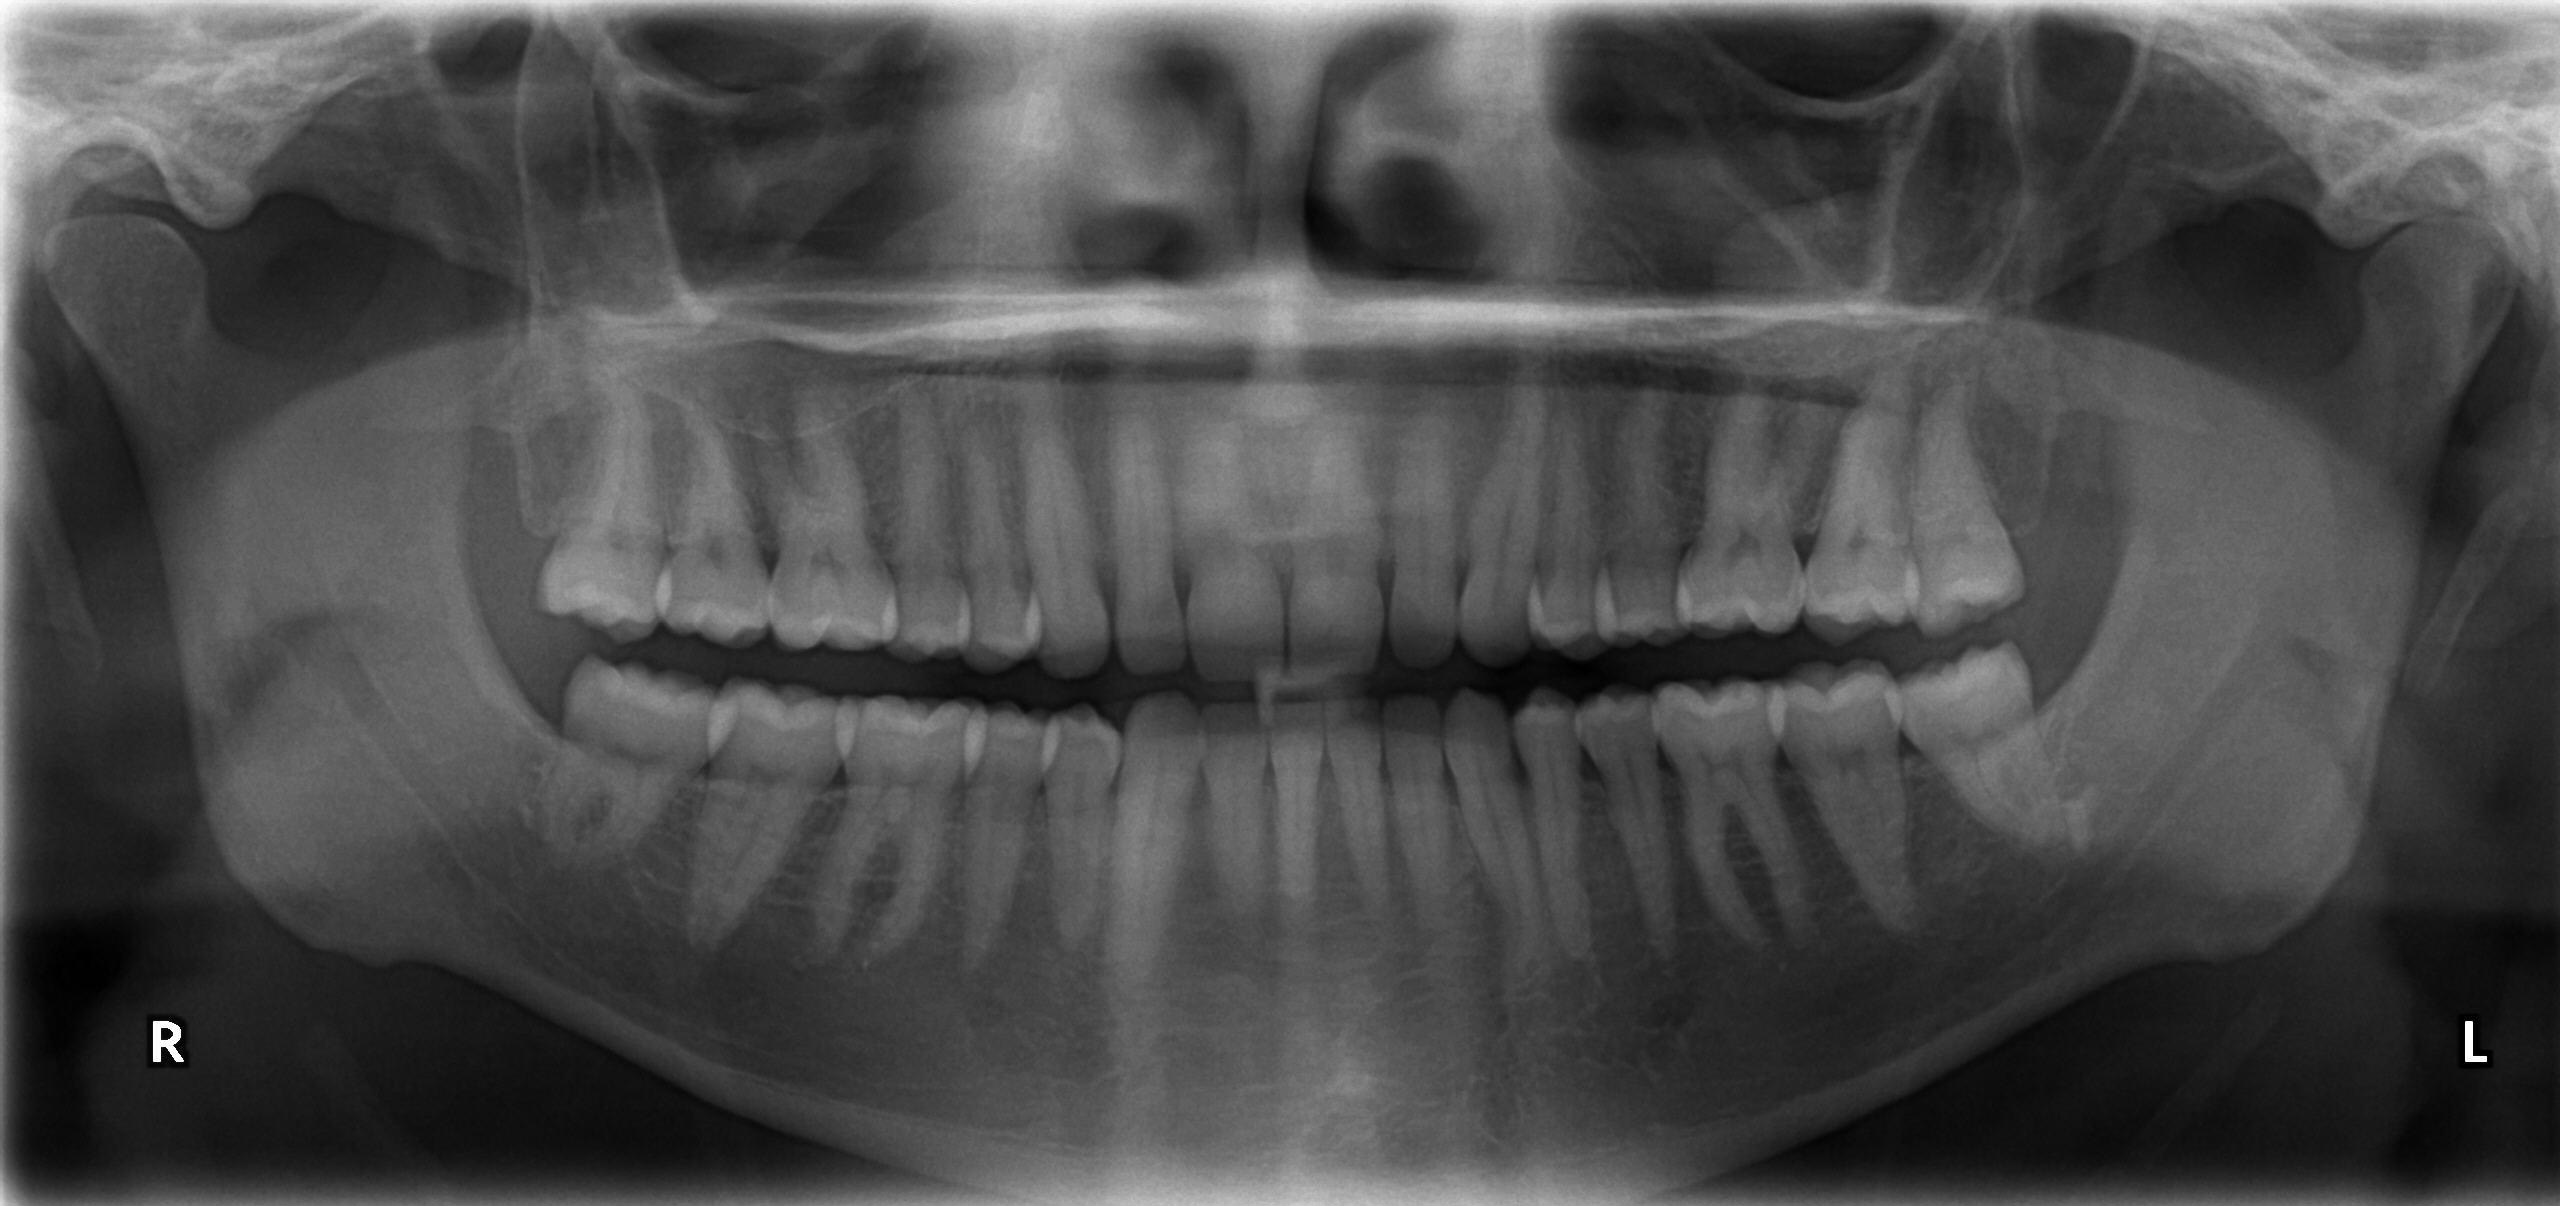canine: (993, 372, 1117, 677), (1427, 672, 1546, 964), (1376, 377, 1466, 684), (1113, 689, 1202, 986)
incisor: (1162, 370, 1288, 690), (1278, 397, 1389, 690), (1087, 366, 1189, 681), (1375, 667, 1461, 925), (1319, 669, 1401, 922), (1254, 674, 1339, 916), (1190, 677, 1275, 907)
molar: (678, 650, 859, 969), (1750, 641, 1935, 940), (529, 622, 738, 876), (821, 677, 989, 982), (1879, 620, 2087, 867), (743, 357, 909, 659), (1642, 659, 1807, 953), (508, 369, 674, 646), (1891, 349, 2041, 650), (630, 362, 779, 650), (1665, 348, 1809, 645), (1780, 349, 1923, 643), (1040, 700, 1127, 960)
premolar: (1576, 330, 1696, 651), (862, 374, 984, 672), (1567, 669, 1685, 973), (940, 369, 1050, 677), (1527, 351, 1629, 667), (953, 690, 1056, 982), (1451, 370, 1549, 676), (1512, 681, 1603, 969)
